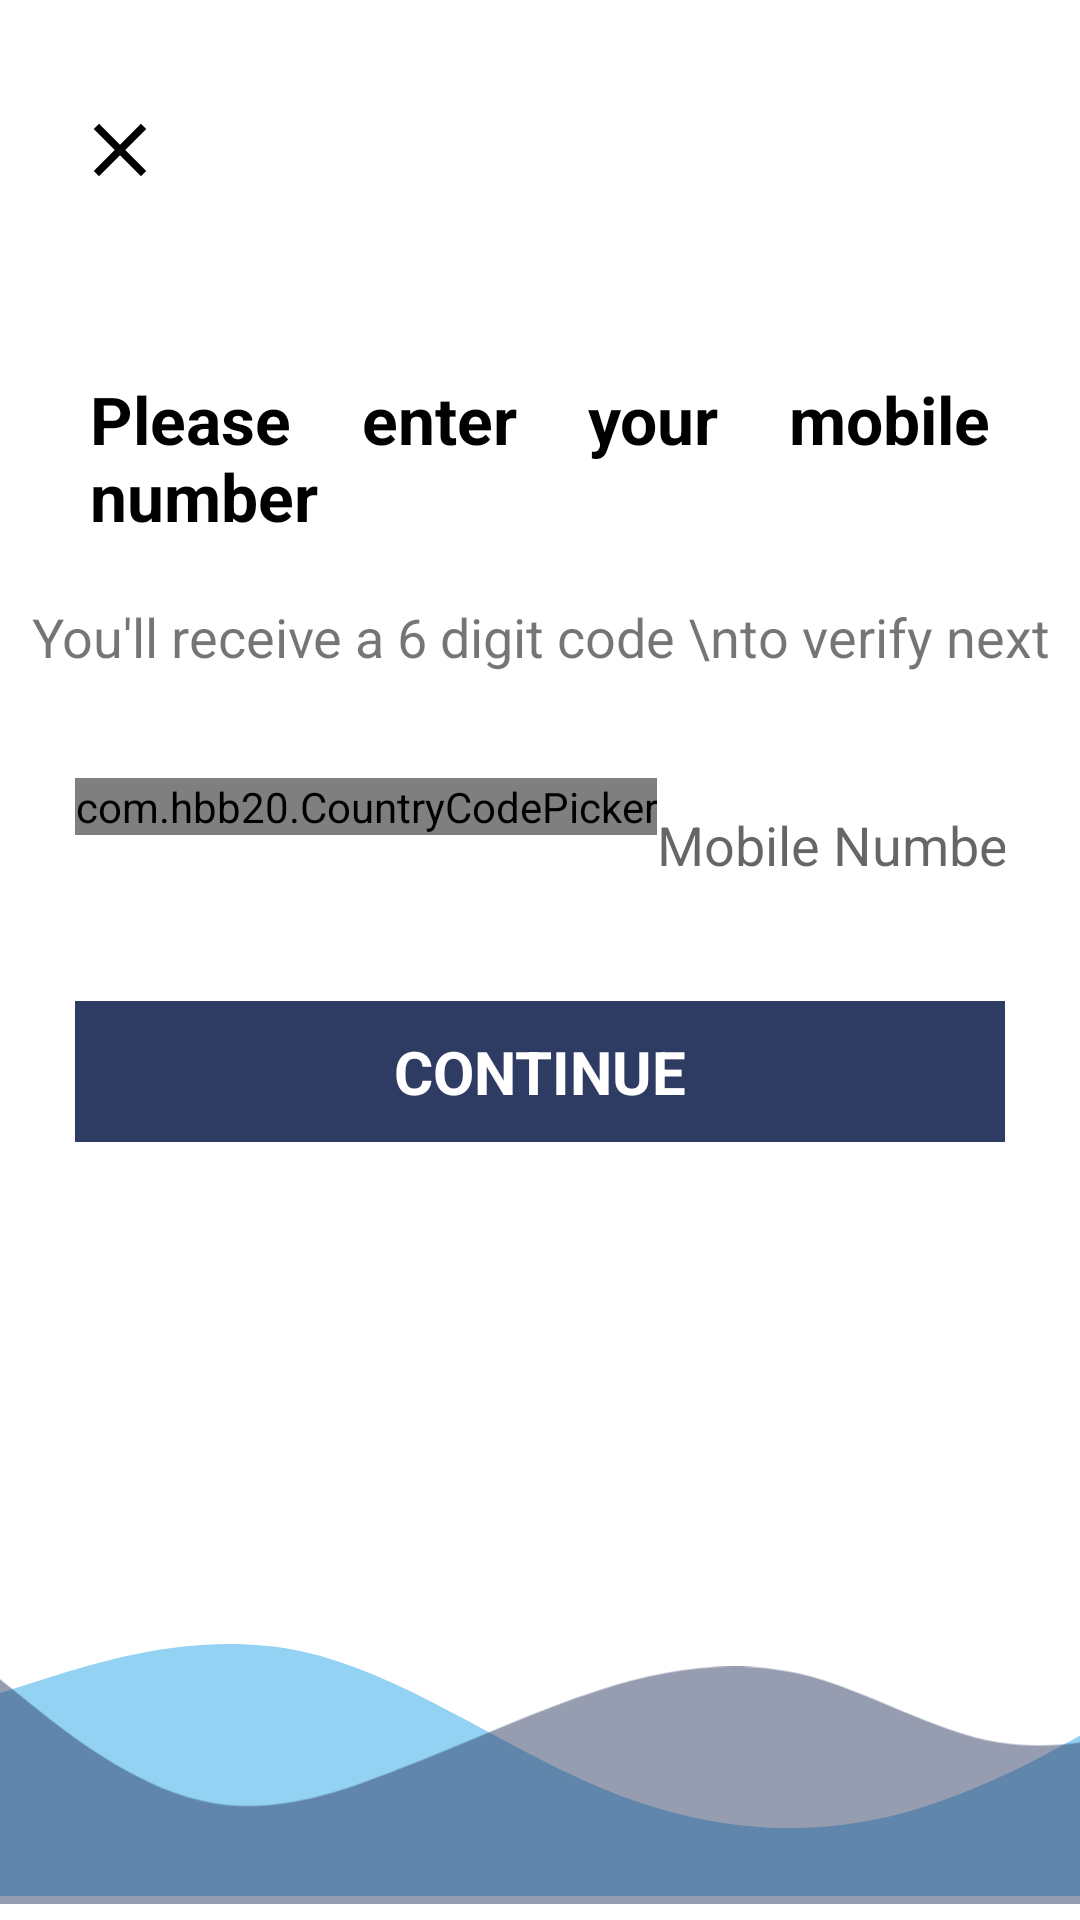

Icon click points for this 1080 x 1920 phone screenshot, format [x,y]:
close: [120,150]
